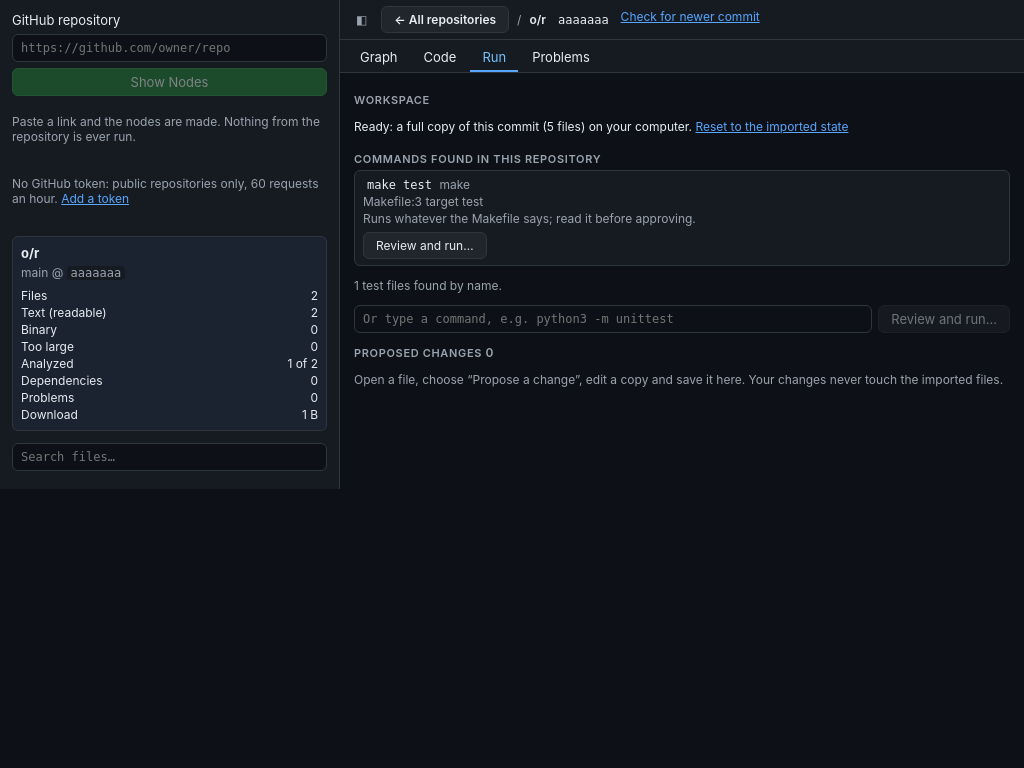
it: Run tab › on a machine that cannot confine, approval needs an extra explicit acknowledgement
The width and height of the screenshot is (1024, 768).
Expected: the text "Makefile:3 target test" is shown, [363, 194, 483, 209]
Click the button "Review and run…" below "make test".
click(425, 246)  # box [363, 232, 487, 259]
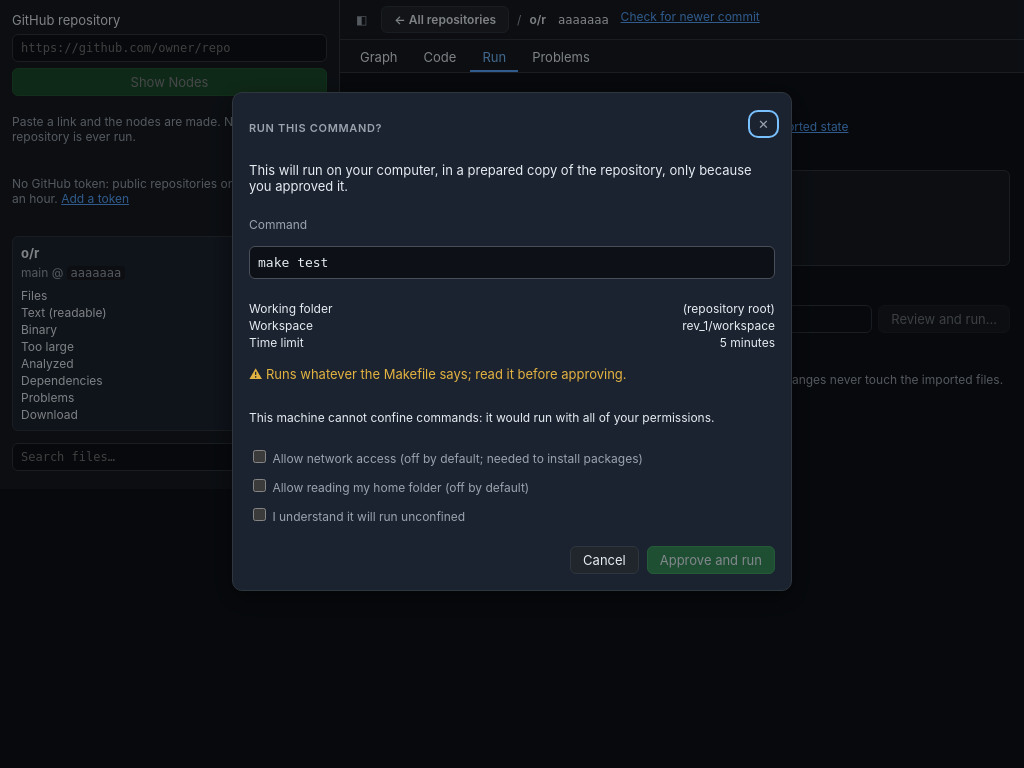
Expected: the text "cannot confine commands" is shown, [249, 410, 714, 425]
Expected: the button "Approve and run" is disabled, [647, 546, 775, 574]
Click the checkbox labelled "I understand it will run unconfined".
click(260, 515)  # box [253, 508, 266, 521]
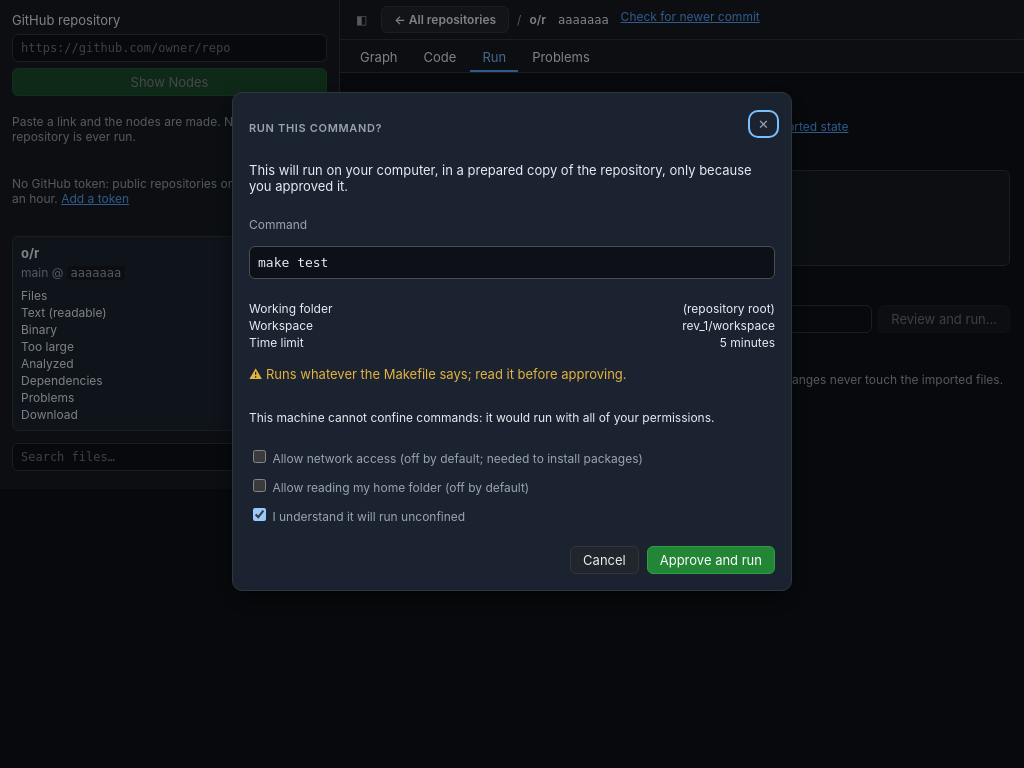
Expected: the button "Approve and run" is enabled, [647, 546, 775, 574]
